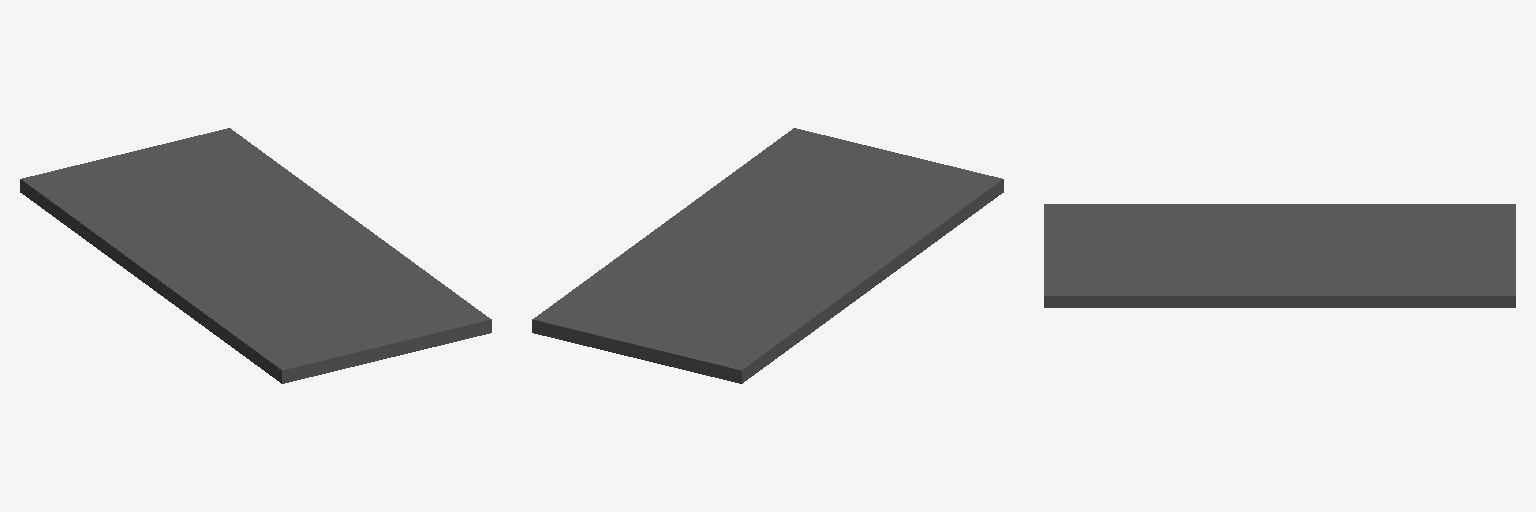
robot.urdf — counter#1:
<?xml version="1.0"?>
<robot name="counter#1">
    <material name="color">
        <color rgba="0.4 0.4 0.4 1"/>
    </material>
    <link name="base">
        <collision name="box_collision">
        <geometry>
            <box size="0.807 1.749 0.05"/>
        </geometry>
        </collision>
        <visual name="box_visual">
            <origin xyz="0 0 0" rpy="0 0 0"/>
          <material name="color"/>

        <geometry>
            <box size="0.807 1.749 0.05"/>
        </geometry>

        </visual>
        <inertial>
			<mass value="0.3"/>
			<inertia ixx="0.6" ixy="0.0" ixz="0.0" iyy="0.5" iyz="-0.0" izz="0.08"/>
		</inertial>
    </link>
</robot>

--- Facts derived from the render (not from the file) ---
The picture shows the robot from 3 angles, left to right: view 1: azimuth 30°, elevation 25°; view 2: azimuth 150°, elevation 25°; view 3: azimuth 270°, elevation 25°; orthographic projection.
Robot: counter#1 — 1 links, 0 joints (none); root link base; default pose: every joint at zero.
Links seen in each view (by area): view 1: base; view 2: base; view 3: base.
Link boxes in pixels (x1=…): base: x1=20, y1=128, x2=491, y2=383; base: x1=532, y1=128, x2=1003, y2=383; base: x1=1044, y1=204, x2=1515, y2=307.
Bounding box of the posed robot: 0.807 × 1.75 × 0.05 m (x, y, z).
Geometry: primitives only (box / cylinder / sphere), no mesh files.